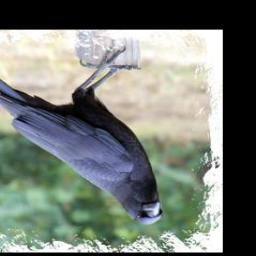Crow: (0, 44, 168, 226)
